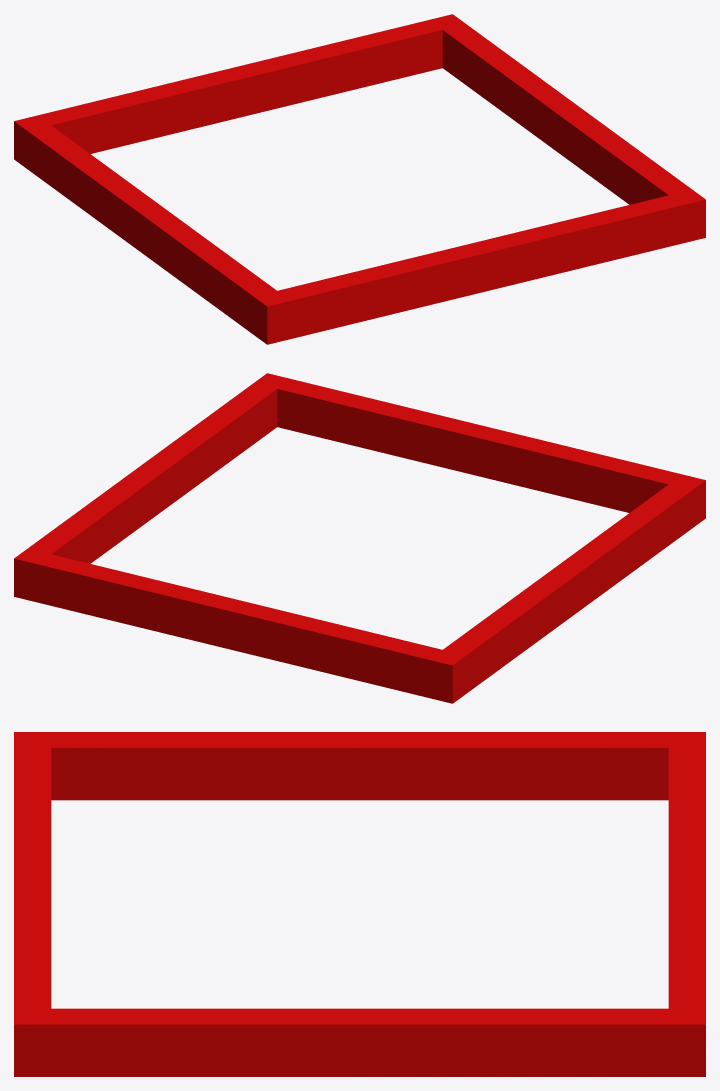
The model's file is framered.glb.
3 views of the same model, one above another, from view 1: azimuth 30°, elevation 25°; view 2: azimuth 150°, elevation 25°; view 3: azimuth 270°, elevation 25° (orthographic). The views are drawn at different scales.
Visible parts, largest first — view 1: Cube; view 2: Cube; view 3: Cube.
Boxes of the visible parts, x1,y1,x2,y2 form: Cube: (14,14,705,344); Cube: (14,373,705,703); Cube: (14,732,705,1076).
Bounding box in the file's own units: 6 × 0.5 × 6.
